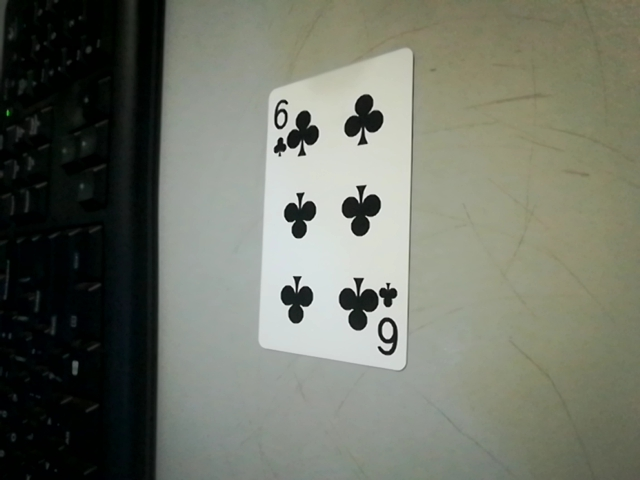mh 6: (364, 285, 408, 366)
